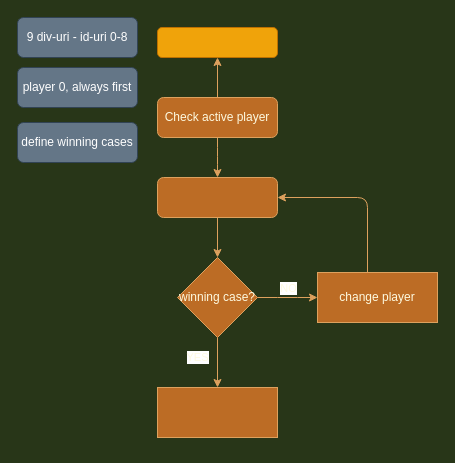
Some shapes in this 455 by 463 pixel diagram are drawn without their labels. The centre of each missing label's shape, as x and y in pixels:
"display winning pannel + winning player + freeze game" goes at (x=217, y=412).
"update inner array, display x/o to div clicked" goes at (x=217, y=197).
"User clicks div" goes at (x=217, y=42).
